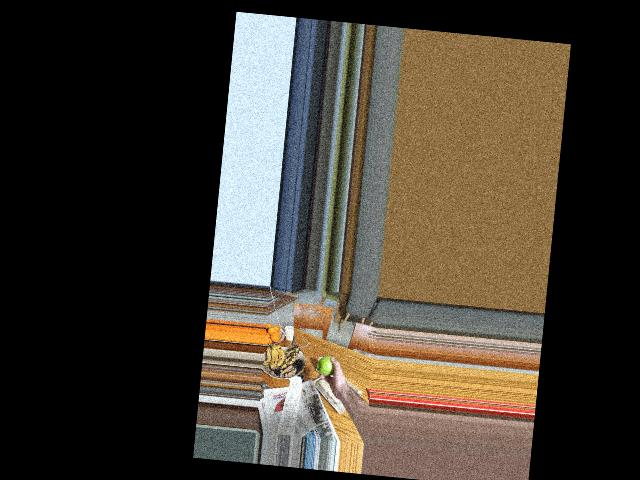apple: (315, 353, 339, 379)
